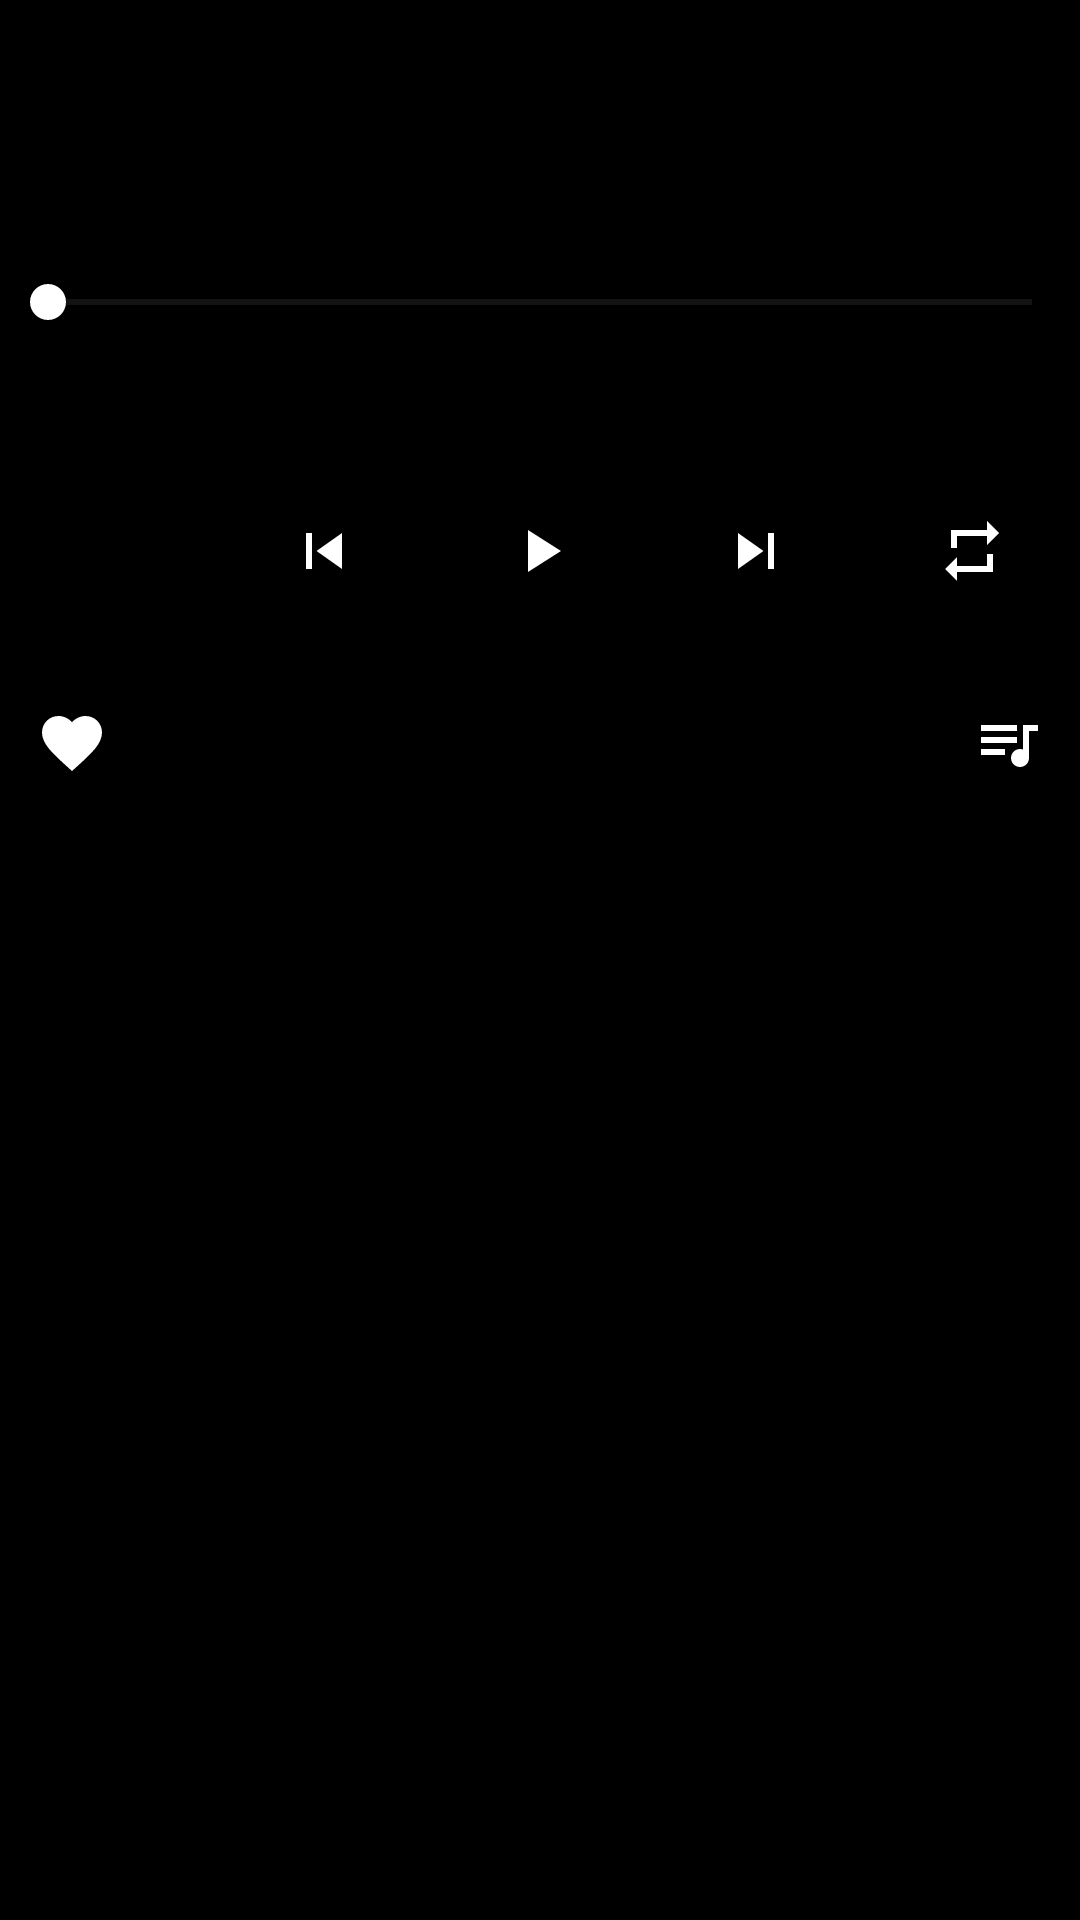

Named icons in this screenshot (1080 × 1920) and their bounding boxes, (x1, y1, x2, y2):
다음 곡: (738, 533, 774, 569)
반복 꺼짐: (945, 521, 999, 581)
이전 곡: (306, 533, 342, 569)
재생: (528, 530, 561, 572)
즐겨찾기 추가: (42, 716, 102, 771)
플레이리스트에 추가: (981, 725, 1038, 767)
